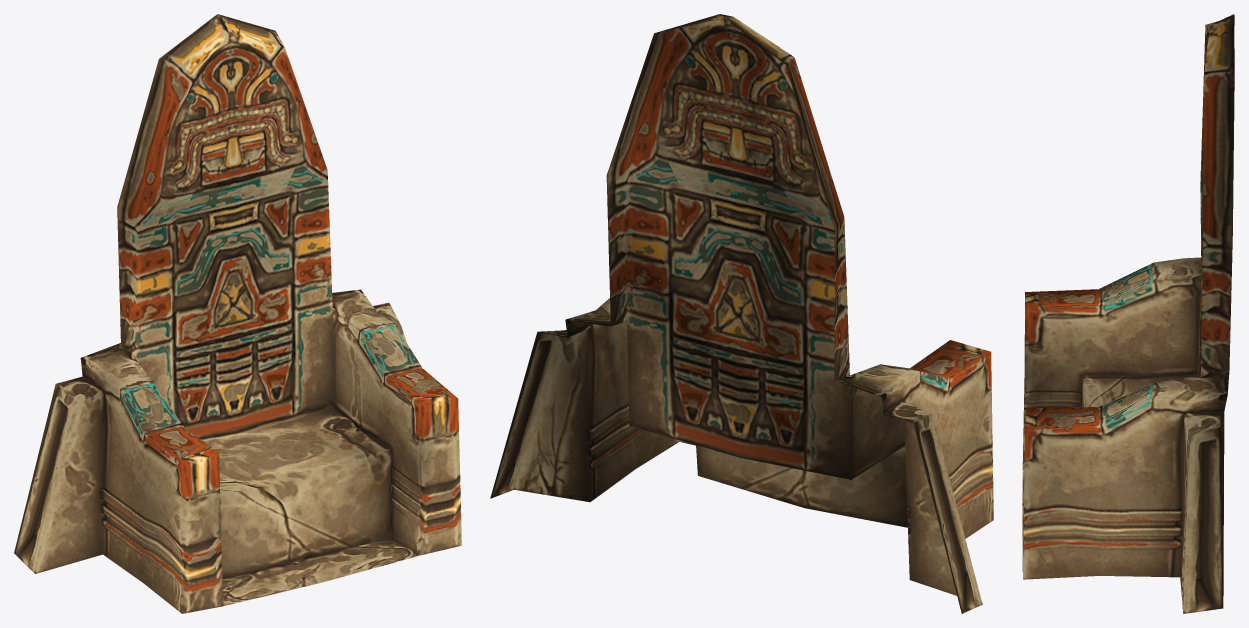
The model's file is throne.FBX.
3 views of the same model, side by side, from view 1: azimuth 30°, elevation 25°; view 2: azimuth 150°, elevation 25°; view 3: azimuth 270°, elevation 25° (orthographic). The views are drawn at different scales.
Visible parts, largest first — view 1: Lvl2_Boss_Throne; view 2: Lvl2_Boss_Throne; view 3: Lvl2_Boss_Throne.
Boxes of the visible parts, x1=… form: Lvl2_Boss_Throne: x1=14, y1=14, x2=461, y2=613; Lvl2_Boss_Throne: x1=490, y1=14, x2=993, y2=613; Lvl2_Boss_Throne: x1=1022, y1=14, x2=1234, y2=613.
Bounding box in the file's own units: 226 × 255 × 98.23.
